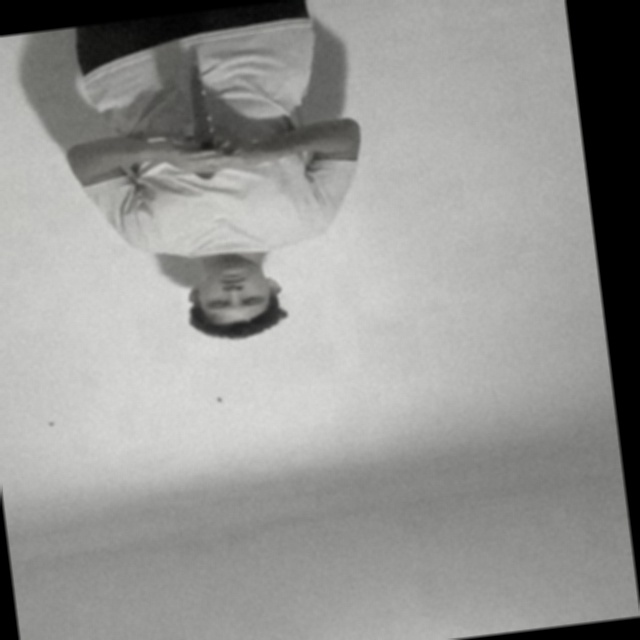Sharp-Object: (183, 61, 218, 138)
